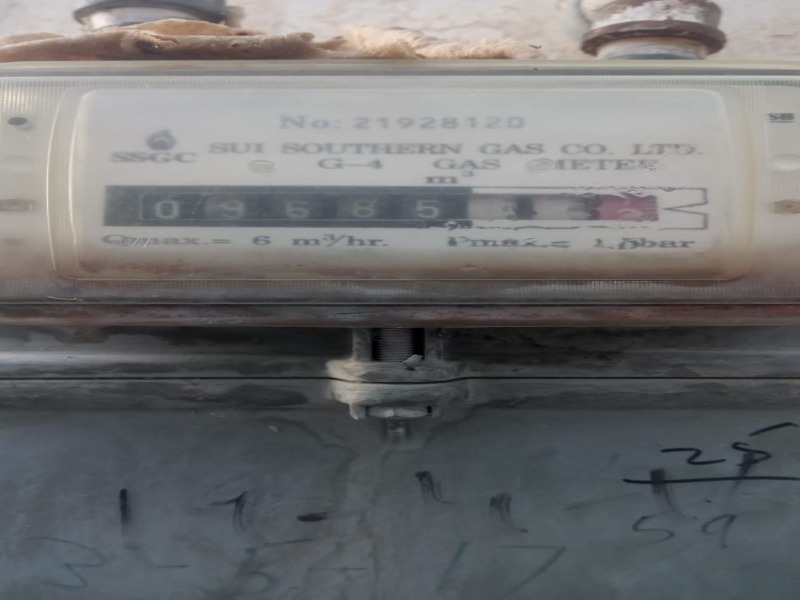ssgc: (118, 183, 670, 235)
